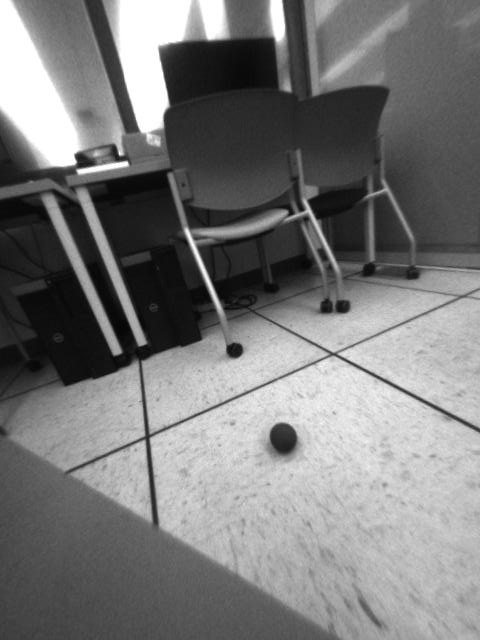dogtoy: (263, 417, 306, 459)
